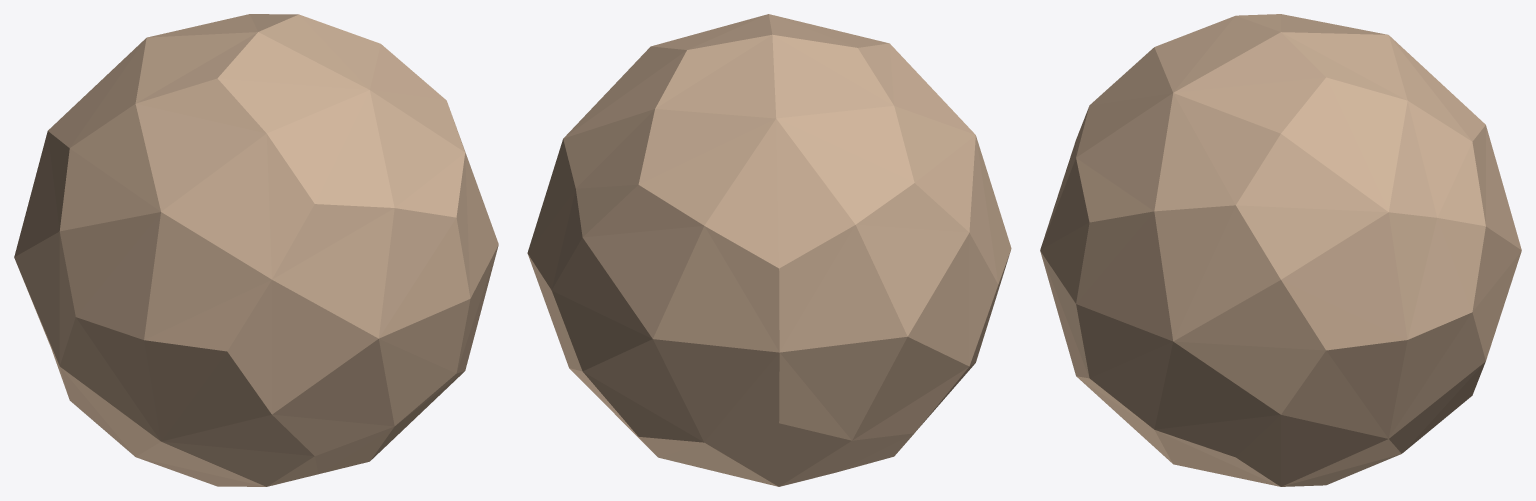
The model's file is Planet.fbx.
The picture shows the model from 3 angles, left to right: view 1: azimuth 30°, elevation 25°; view 2: azimuth 150°, elevation 25°; view 3: azimuth 270°, elevation 25°; orthographic projection.
Visible parts, largest first — view 1: pPlatonic2; view 2: pPlatonic2; view 3: pPlatonic2.
Boxes of the visible parts, bbox=[...] form: pPlatonic2: bbox=[14, 14, 498, 486]; pPlatonic2: bbox=[527, 14, 1011, 486]; pPlatonic2: bbox=[1040, 14, 1521, 486].
Bounding box in the file's own units: 1.96 × 2 × 2.
